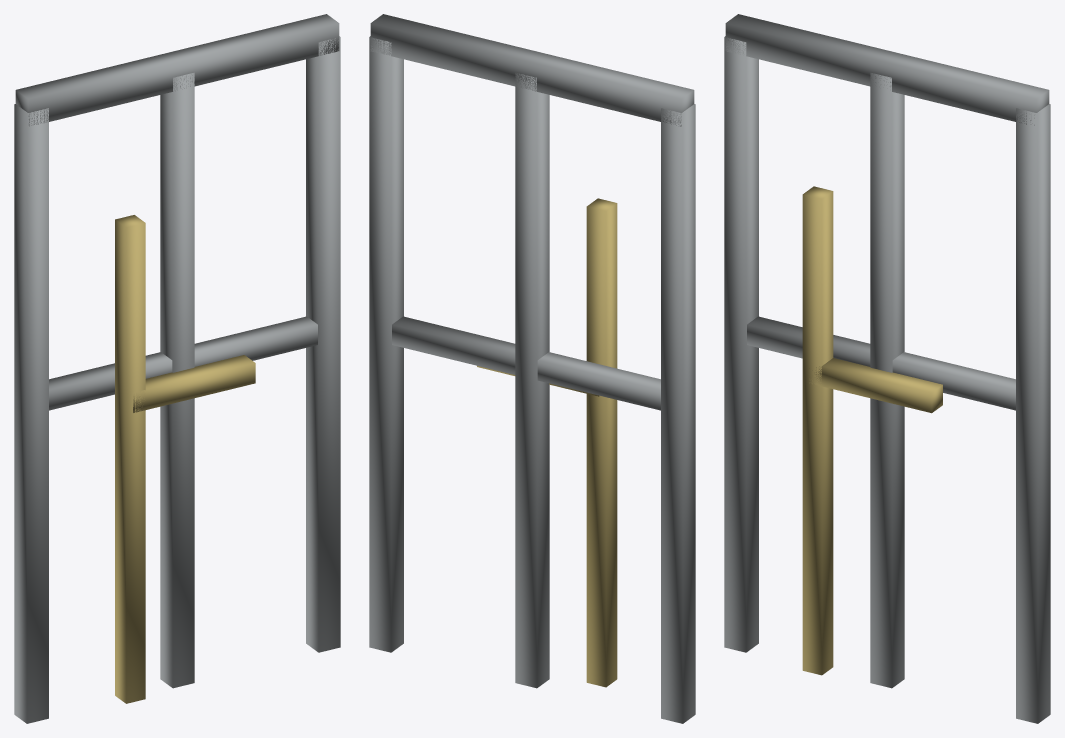
File: residential_gate_l60_h120.glb
3 renders of one model, left to right at view 1: azimuth 30°, elevation 25°; view 2: azimuth 150°, elevation 25°; view 3: azimuth 330°, elevation 25°, orthographic.
Visible parts, largest first — view 1: world; view 2: world; view 3: world.
Boxes of the visible parts, box(x1,y1,x2,y2) form: world: box(14, 14, 340, 723); world: box(369, 14, 695, 723); world: box(724, 14, 1050, 723).
Size of the model in its own units: 0.645 by 1.23 by 0.0825.
